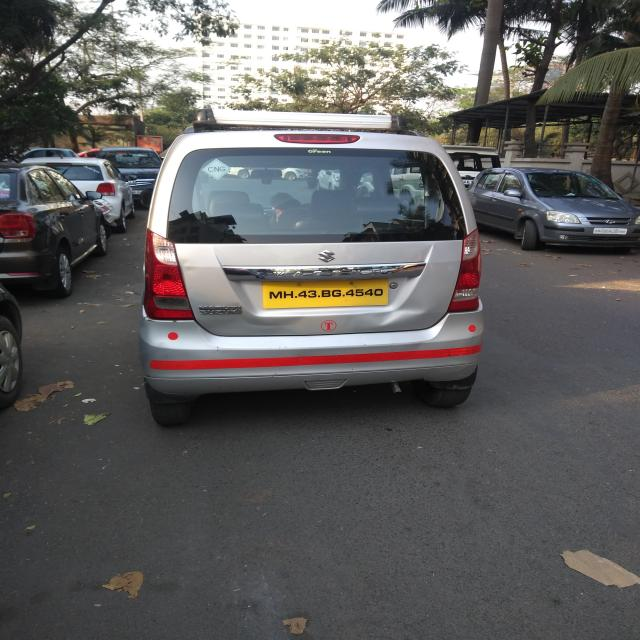Number-Plate: (266, 280, 386, 306)
